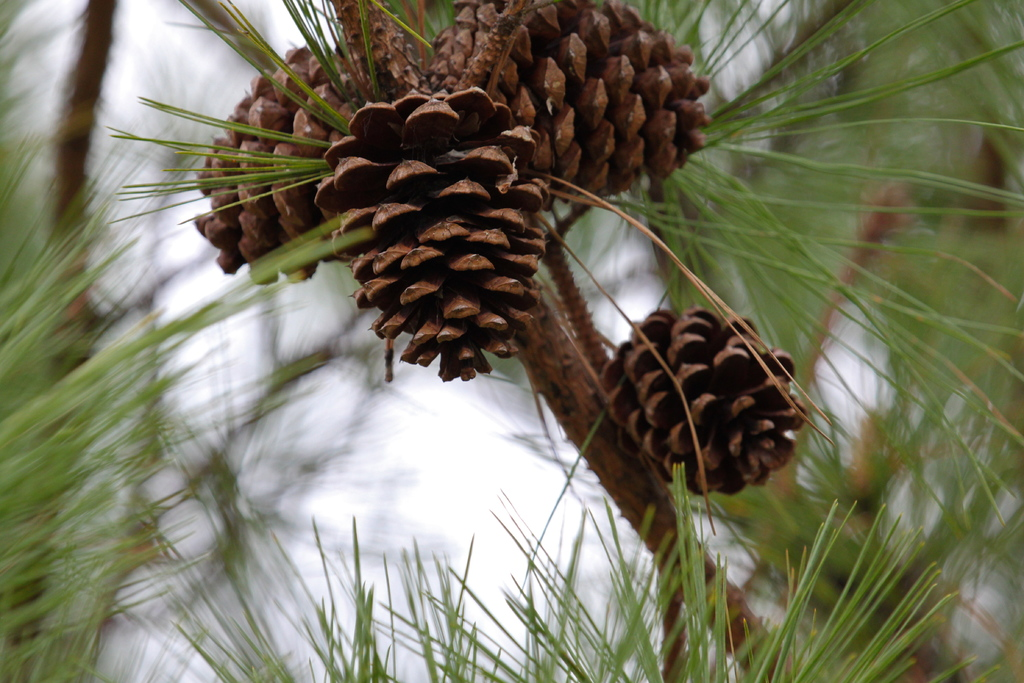Tree: (1, 0, 1024, 683)
